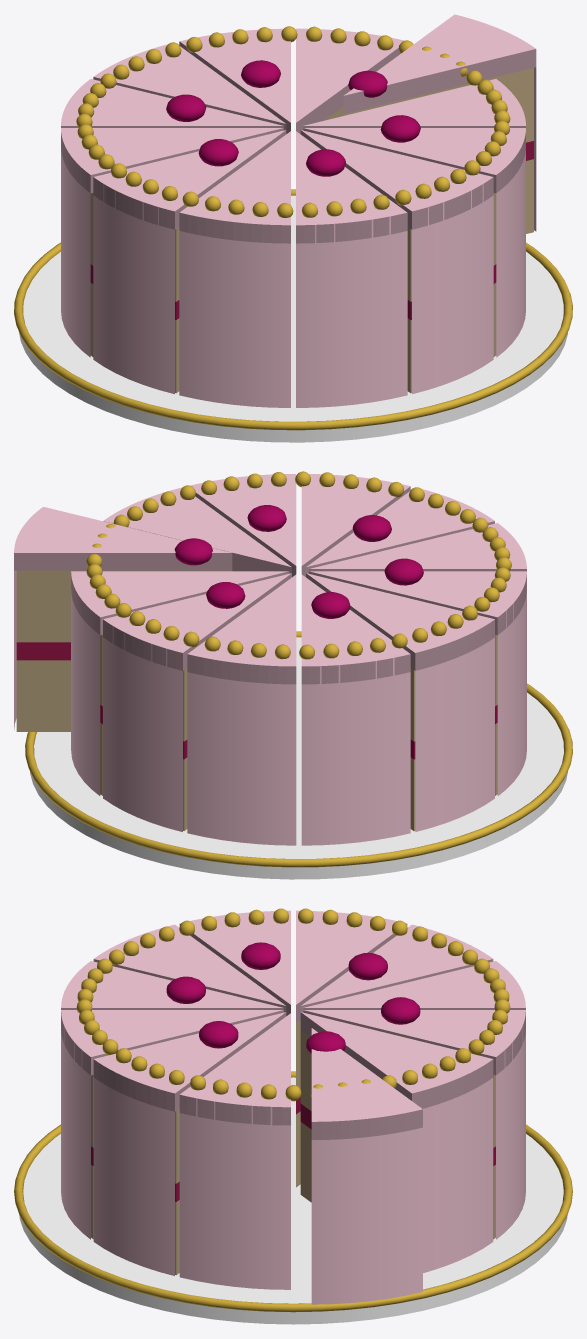
File: torta-24cm-11alto-1p-12porc-rosa.glb
3 renders of one model, top to bottom at view 1: azimuth 30°, elevation 25°; view 2: azimuth 150°, elevation 25°; view 3: azimuth 270°, elevation 25°, orthographic. The views are drawn at different scales.
Bounding box in the file's own units: 0.3111 × 0.1316 × 0.305.
